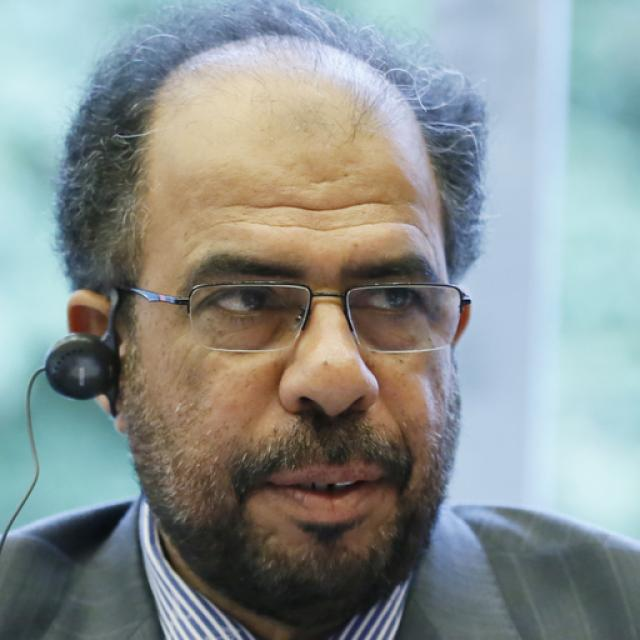Wrinkle: (188, 208, 442, 273), (224, 191, 397, 216)
